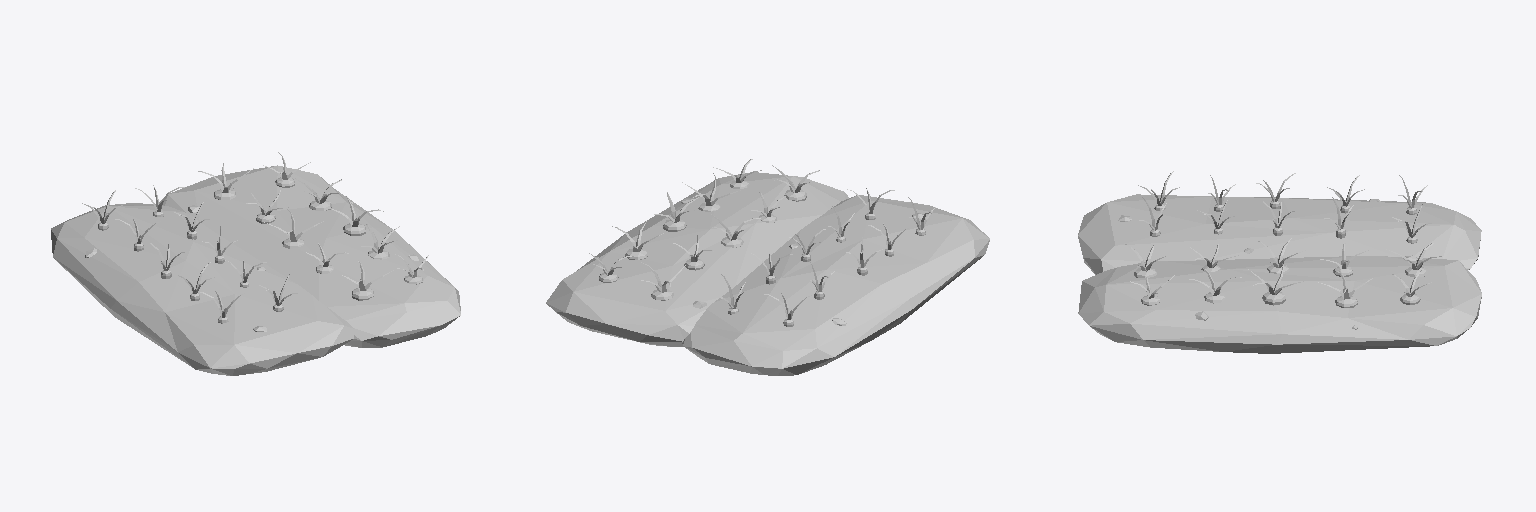
The model's file is Garden.obj.
3 renders of one model, left to right at view 1: azimuth 30°, elevation 25°; view 2: azimuth 150°, elevation 25°; view 3: azimuth 270°, elevation 25°, orthographic.
Parts seen in each view (by area): view 1: Icosphere; view 2: Icosphere; view 3: Icosphere.
Boxes of the visible parts, x1=… form: Icosphere: x1=51, y1=152, x2=460, y2=375; Icosphere: x1=546, y1=159, x2=989, y2=375; Icosphere: x1=1078, y1=171, x2=1481, y2=353.
Bounding box in the file's own units: 4.11 × 0.9168 × 4.98.